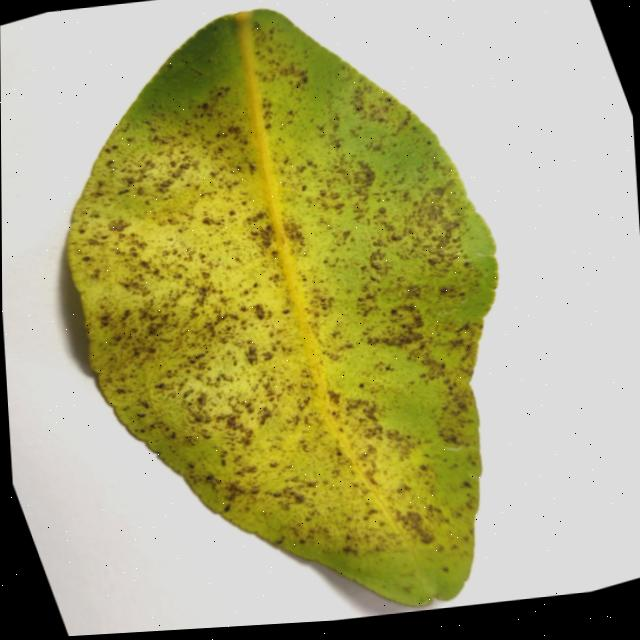melanose: (67, 9, 496, 605)
